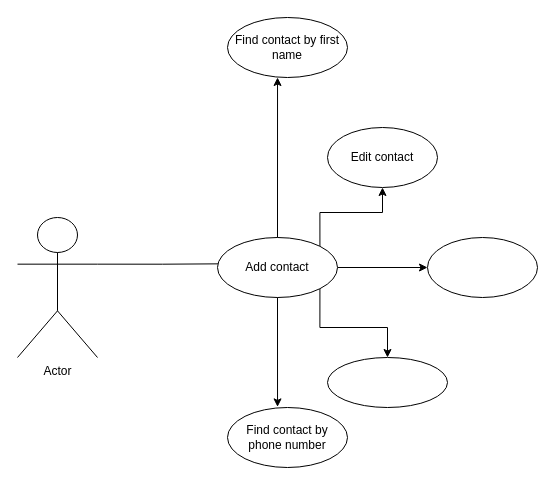
The diagram is 555 pixels wide and 485 high, and some of its shapes have lost their labels. Here are the shapes that lost their labels. From the top down, the centre of each, then its label:
At (482,267): "Remove contact".
At (387,382): "Find contact by last name".
